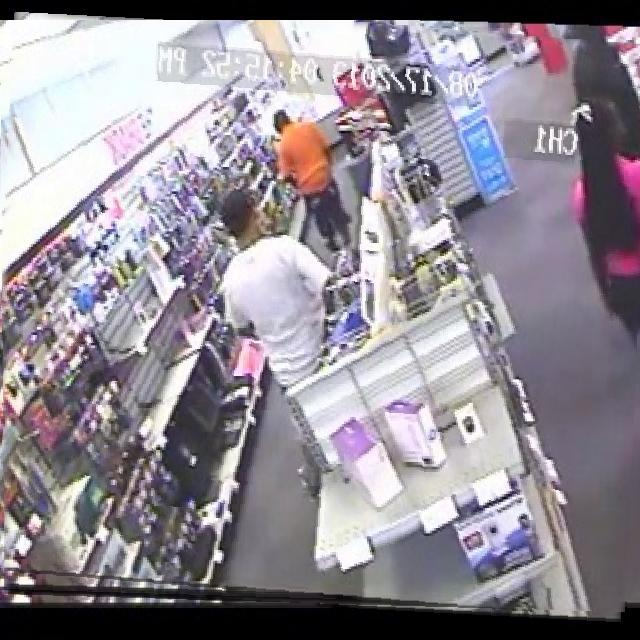Normal: (0, 20, 640, 613)
